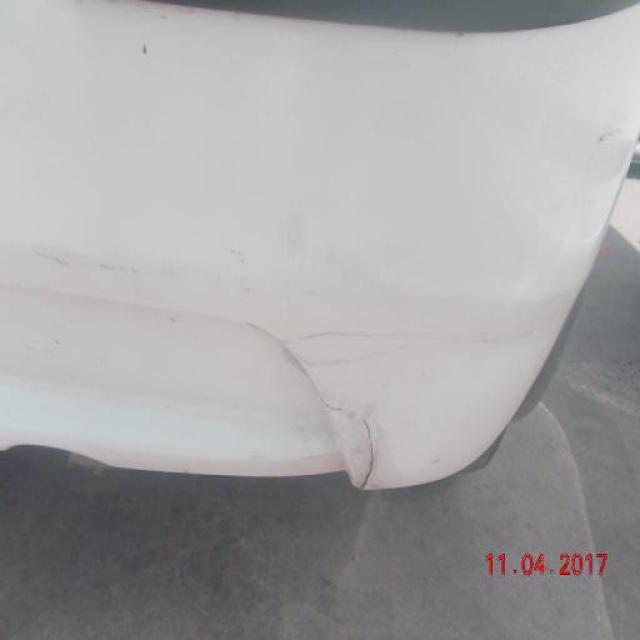car damage: (352, 419, 377, 493)
